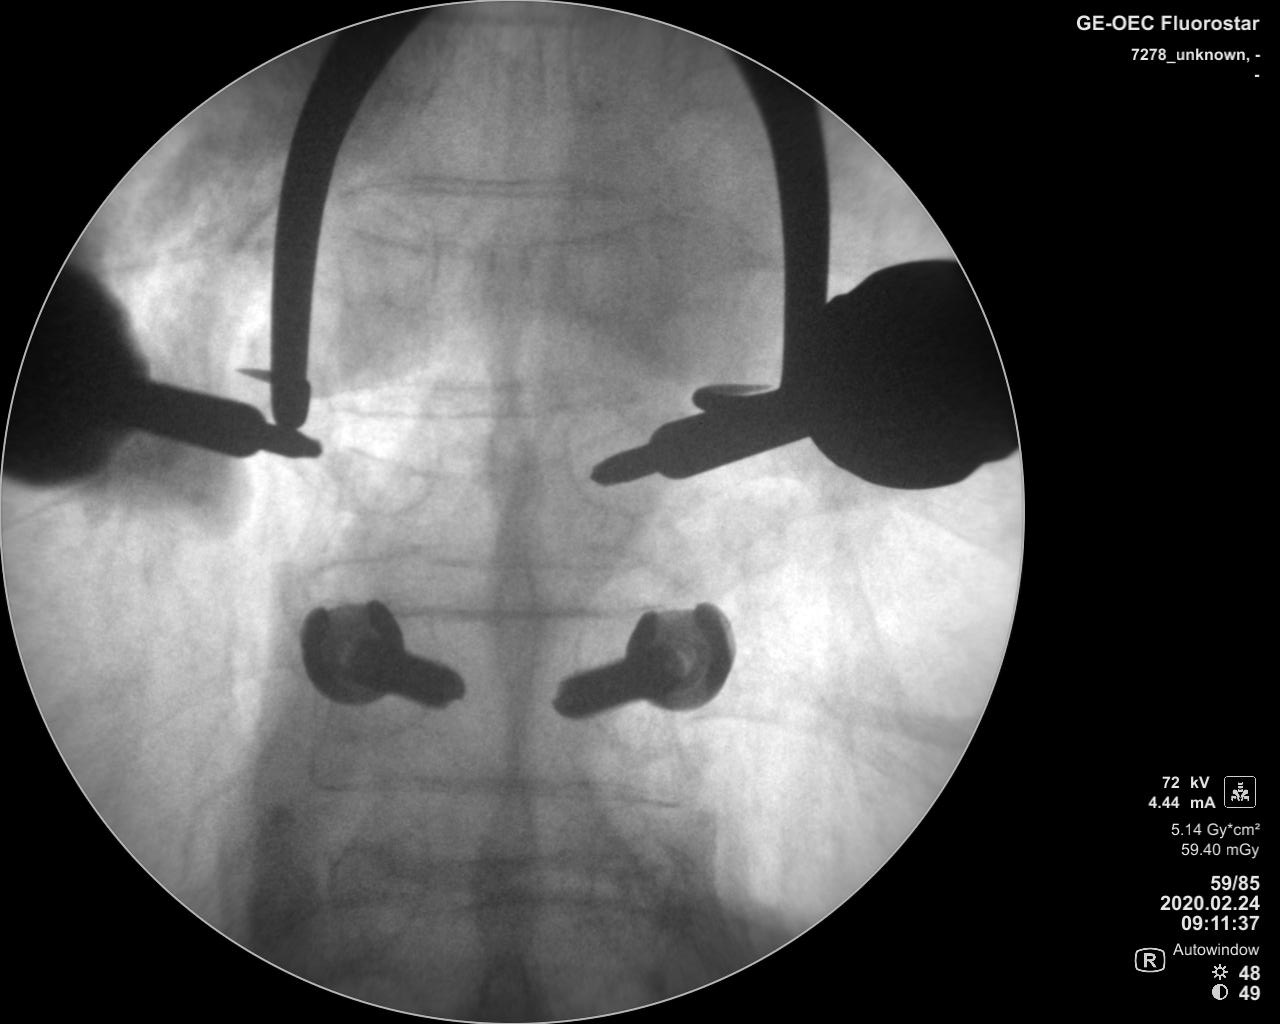eyes: (575, 600, 667, 762), (330, 385, 437, 518), (566, 399, 659, 526), (352, 197, 437, 320), (559, 219, 646, 319)
line: (319, 768, 675, 810), (346, 839, 654, 876), (377, 539, 642, 577), (357, 173, 641, 202), (406, 598, 624, 624), (338, 402, 612, 421)
nose: (470, 748, 544, 956), (475, 188, 530, 372), (489, 535, 543, 704), (483, 380, 534, 523)
